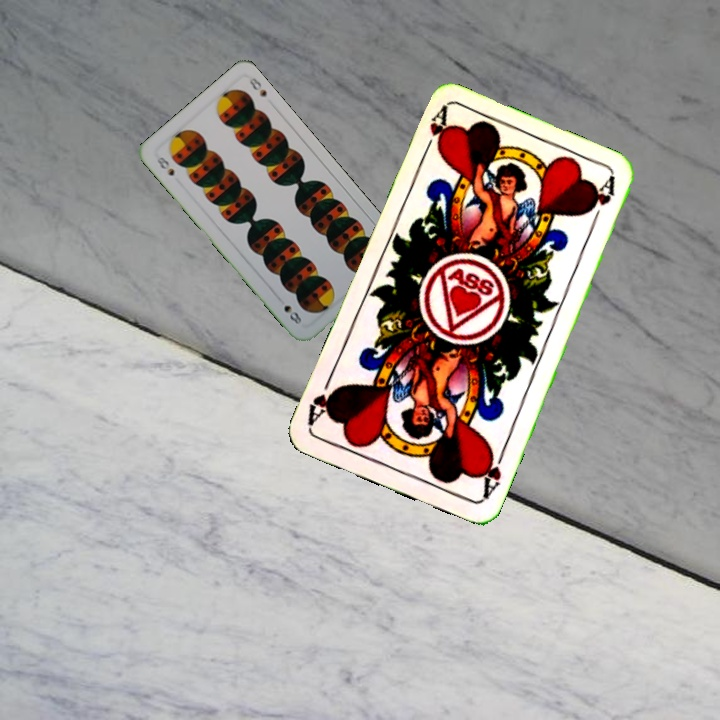HA: (417, 104, 452, 161), (475, 444, 508, 502)
S8: (153, 153, 177, 179)
